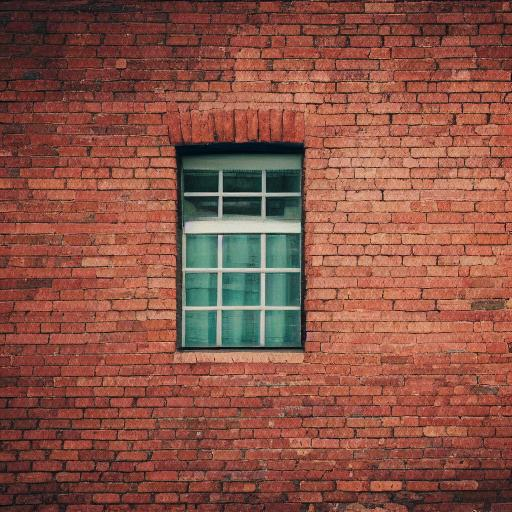Window: (163, 110, 311, 367)
